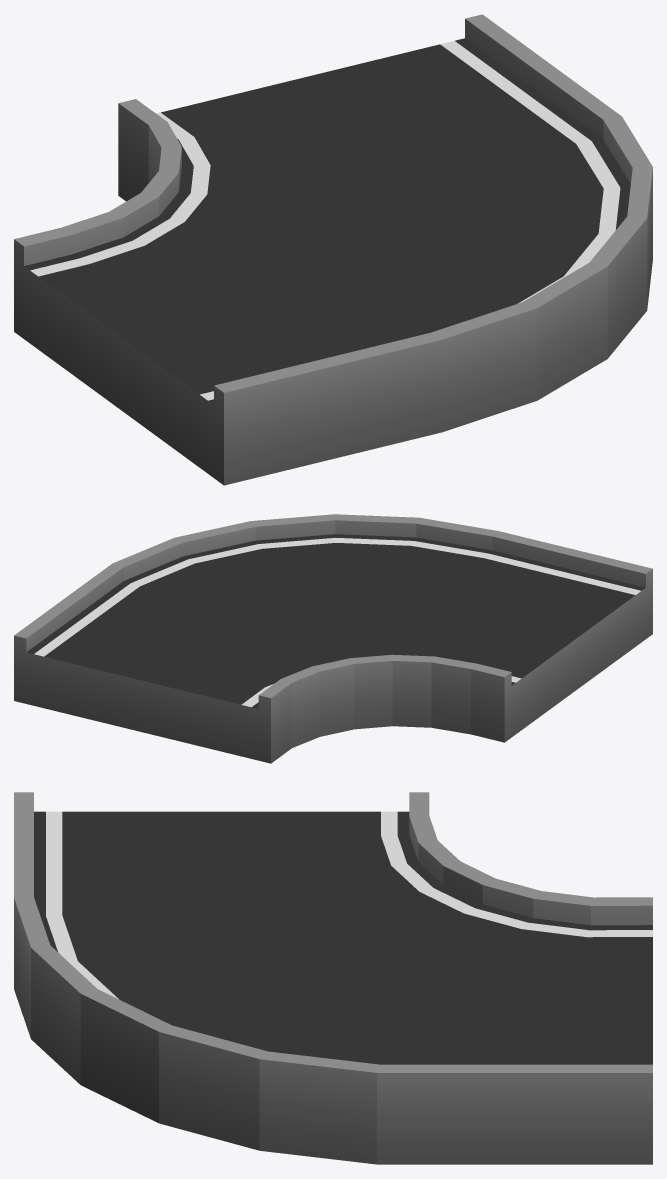
The model's file is Curved_Road.fbx.
3 views of the same model, one above another, from view 1: azimuth 30°, elevation 25°; view 2: azimuth 150°, elevation 25°; view 3: azimuth 270°, elevation 25° (orthographic). The views are drawn at different scales.
Parts seen in each view (by area): view 1: Curved_Road; view 2: Curved_Road; view 3: Curved_Road.
Boxes of the visible parts, bbox=[...] form: Curved_Road: bbox=[14, 14, 652, 485]; Curved_Road: bbox=[14, 514, 652, 763]; Curved_Road: bbox=[14, 792, 652, 1164].
Size of the model in its own units: 319 by 48.52 by 307.
